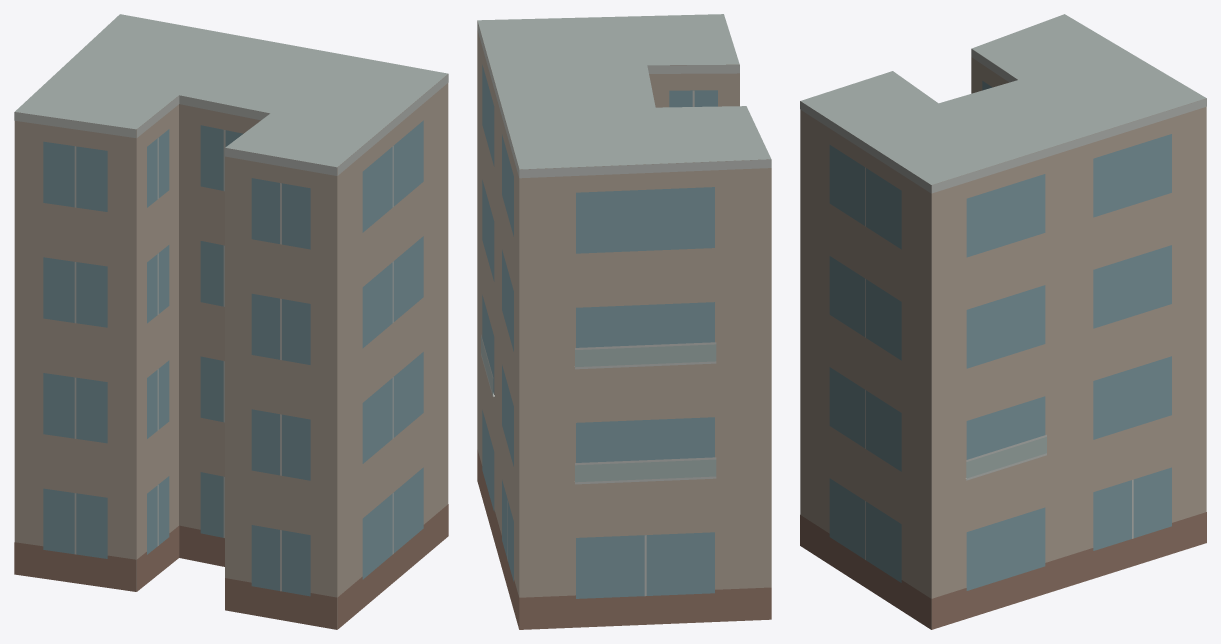
Rendered from survey-upis-32469685.glb.
The picture shows the model from 3 angles, left to right: view 1: azimuth 30°, elevation 25°; view 2: azimuth 150°, elevation 25°; view 3: azimuth 270°, elevation 25°; orthographic projection. The views are drawn at different scales.
Parts seen in each view (by area): view 1: survey-upis-32469685.tmp; view 2: survey-upis-32469685.tmp; view 3: survey-upis-32469685.tmp.
Part boxes in pixels (x1,y1,x2,y2): survey-upis-32469685.tmp: [14, 14, 448, 629]; survey-upis-32469685.tmp: [477, 14, 771, 629]; survey-upis-32469685.tmp: [800, 14, 1206, 629].
Bounding box in the file's own units: 10.57 × 12.8 × 10.61.
